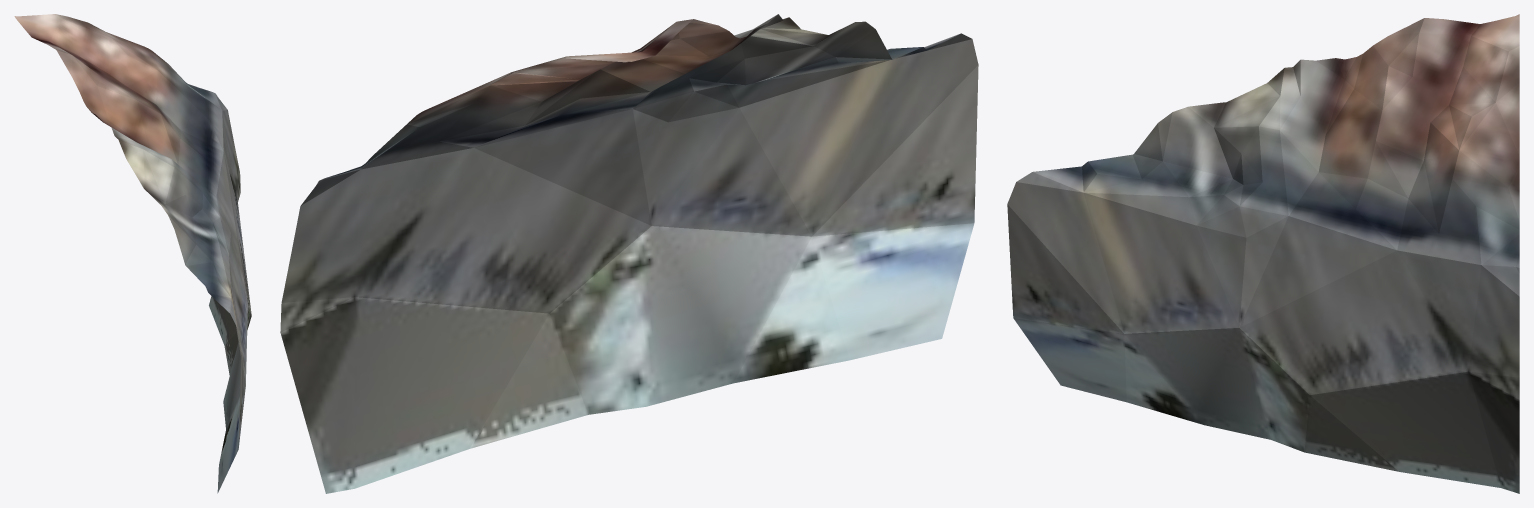
The picture shows the model from 3 angles, left to right: view 1: azimuth 30°, elevation 25°; view 2: azimuth 150°, elevation 25°; view 3: azimuth 270°, elevation 25°; orthographic projection. The views are drawn at different scales.
Size of the model in its own units: 0.5245 by 0.7285 by 0.9104.
1 material, 1 textured.
